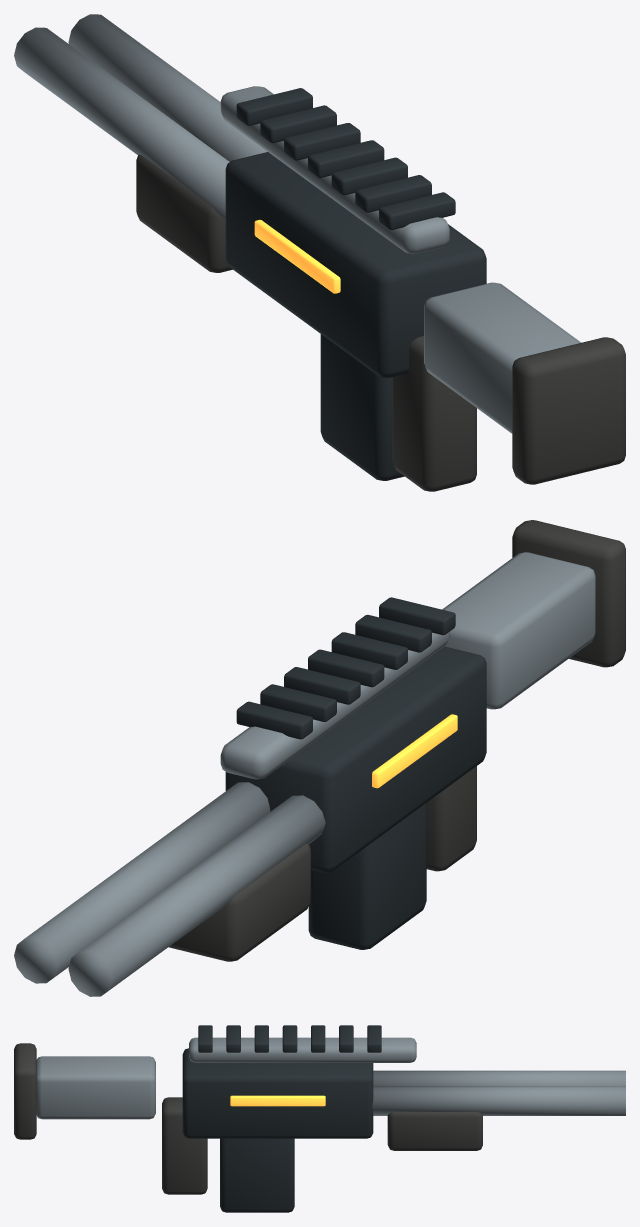
File: weapon-shotgun.glb
3 renders of one model, top to bottom at view 1: azimuth 30°, elevation 25°; view 2: azimuth 150°, elevation 25°; view 3: azimuth 270°, elevation 25°, orthographic. The views are drawn at different scales.
Visible parts, largest first — view 1: Grip; view 2: Grip; view 3: Grip.
Boxes of the visible parts, left/top/right/bottom form: Grip: left=14, top=14, right=625, bottom=491; Grip: left=14, top=520, right=625, bottom=996; Grip: left=14, top=1025, right=625, bottom=1212.
Bounding box in the file's own units: 0.206 × 0.4525 × 1.48.
